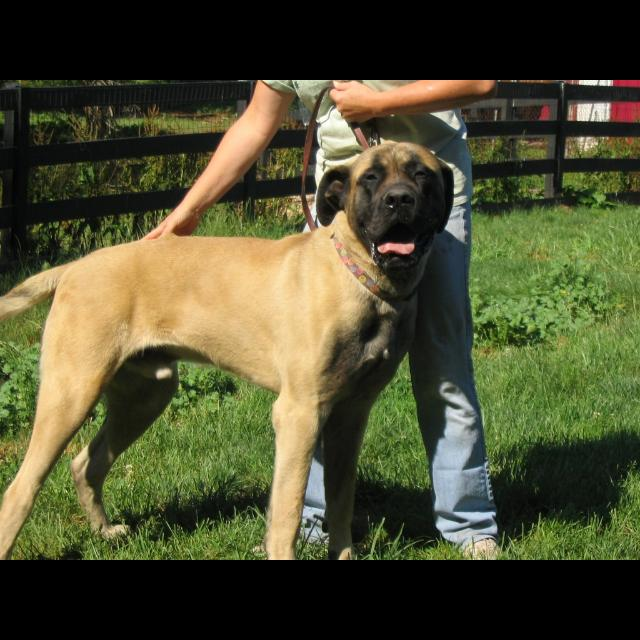mastiff: (1, 141, 455, 560)
person: (141, 81, 506, 561)
